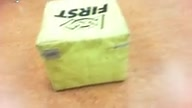cube: (34, 1, 130, 93)
